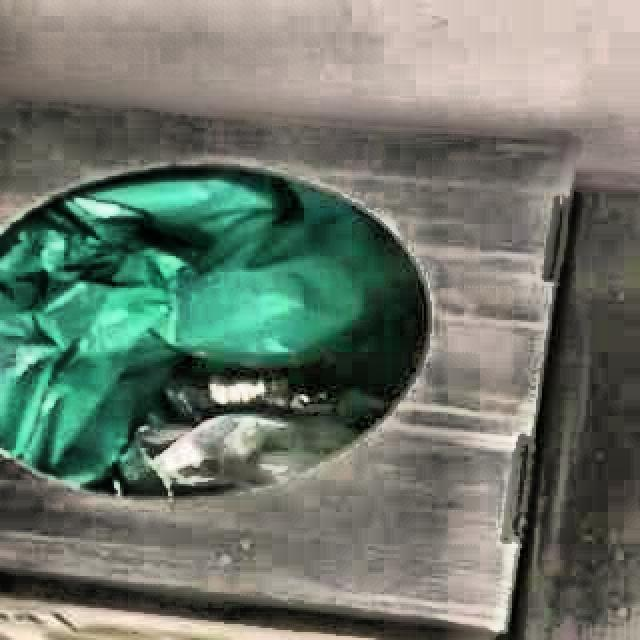metal: (115, 414, 355, 497)
